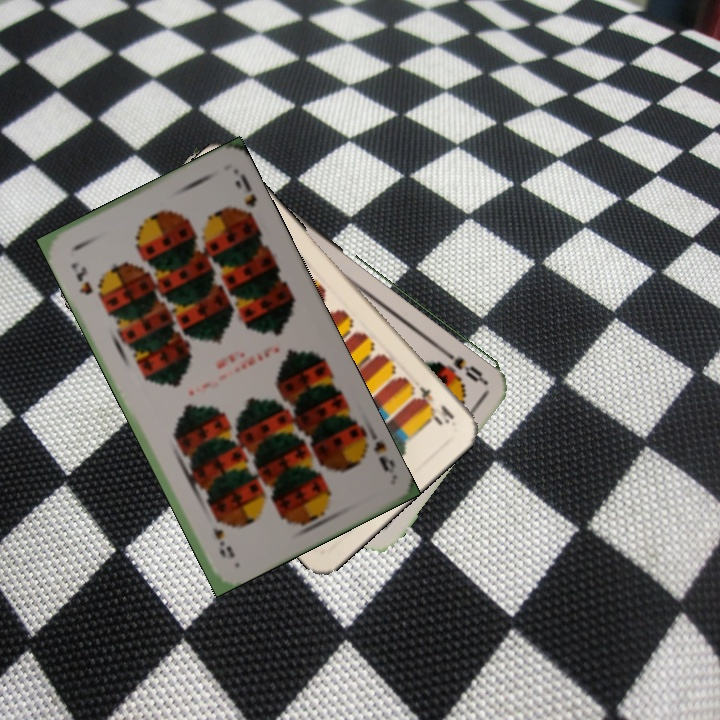E10: (414, 382, 457, 427)
S9: (358, 423, 398, 477), (66, 258, 96, 298)
SO: (437, 344, 488, 386)
